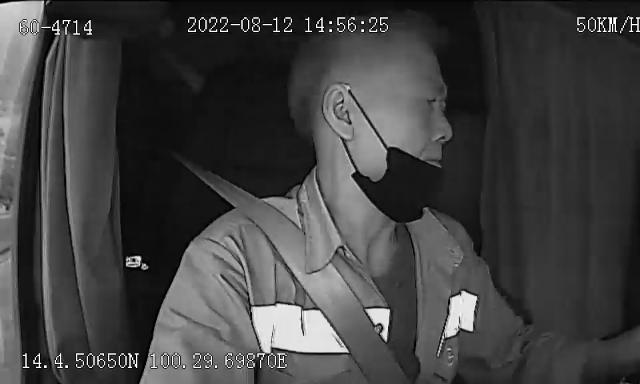Seatbelt: (188, 126, 428, 384)
